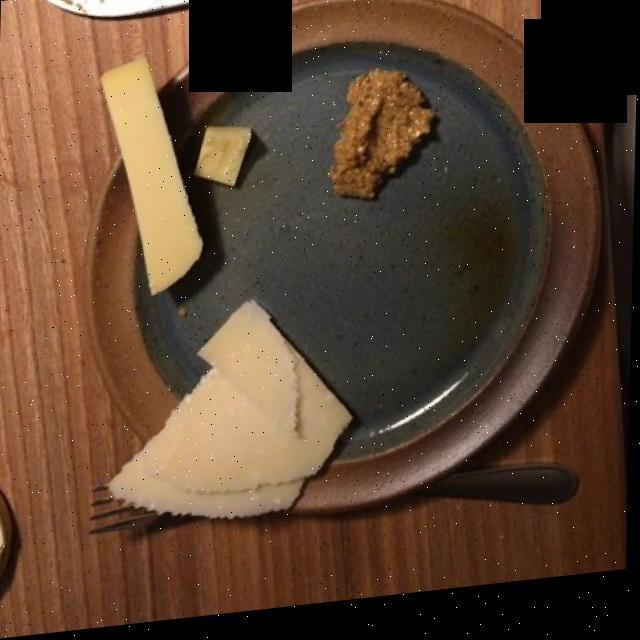cheese: (111, 309, 350, 530), (101, 65, 248, 299)
mustard: (334, 78, 435, 203)
